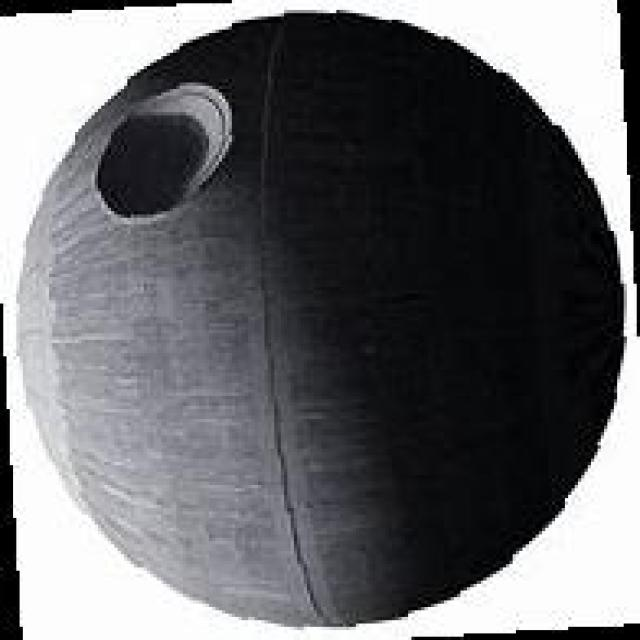Death Star: (28, 13, 632, 617)
